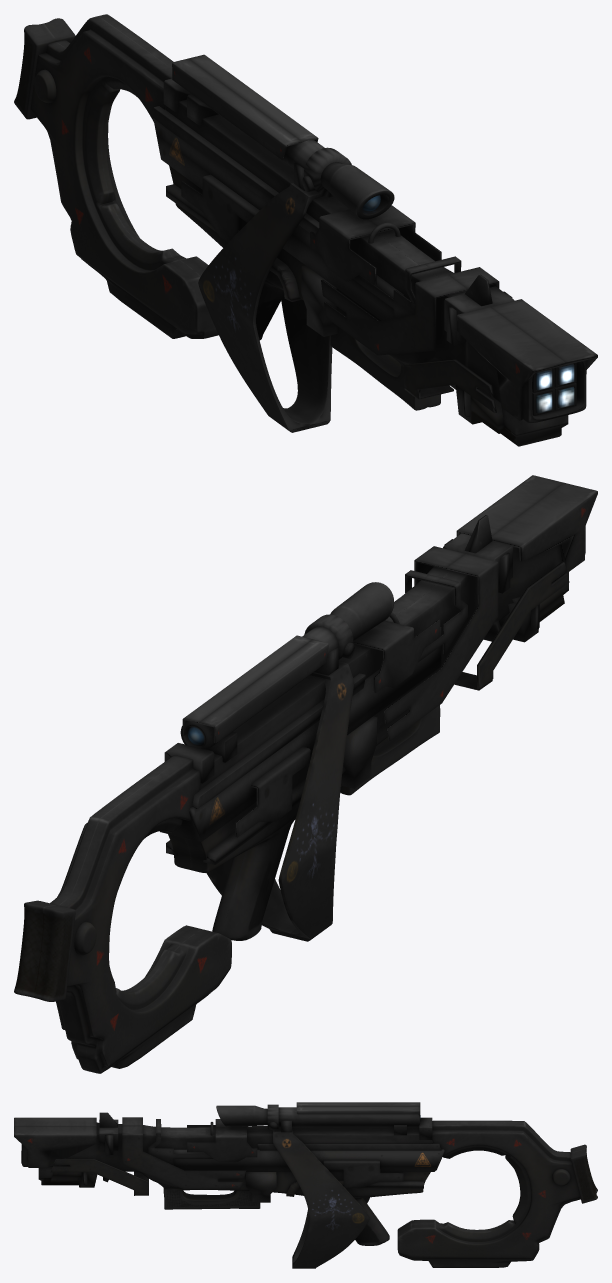
The model's file is rockets_gun.glb.
3 renders of one model, top to bottom at view 1: azimuth 30°, elevation 25°; view 2: azimuth 150°, elevation 25°; view 3: azimuth 270°, elevation 25°, orthographic. The views are drawn at different scales.
Parts seen in each view (by area): view 1: Object_2, Object_9, Object_10, Object_4, Object_3, Object_8, Object_5; view 2: Object_2, Object_9, Object_10, Object_3, Object_4, Object_8, Object_5; view 3: Object_2, Object_9, Object_10, Object_3, Object_4, Object_8, Object_5.
Boxes of the visible parts, left/top/right/bottom form: Object_2: left=34, top=69, right=597, bottom=420; Object_9: left=30, top=14, right=218, bottom=338; Object_10: left=165, top=99, right=586, bottom=422; Object_4: left=198, top=182, right=332, bottom=432; Object_3: left=153, top=89, right=574, bottom=433; Object_8: left=172, top=54, right=568, bottom=446; Object_5: left=14, top=18, right=75, bottom=119; Object_2: left=74, top=475, right=597, bottom=955; Object_9: left=50, top=755, right=231, bottom=1073; Object_10: left=168, top=526, right=585, bottom=940; Object_3: left=160, top=570, right=564, bottom=864; Object_4: left=206, top=661, right=353, bottom=941; Object_8: left=182, top=515, right=568, bottom=743; Object_5: left=14, top=900, right=75, bottom=1001; Object_2: left=14, top=1115, right=570, bottom=1202; Object_9: left=397, top=1120, right=580, bottom=1267; Object_10: left=21, top=1122, right=433, bottom=1245; Object_3: left=50, top=1104, right=444, bottom=1196; Object_4: left=273, top=1126, right=369, bottom=1268; Object_8: left=38, top=1102, right=420, bottom=1185; Object_5: left=570, top=1144, right=597, bottom=1203.
Bounding box in the file's own units: 75.57 × 258 × 851.
Materials: 5 (5 with a texture image).
